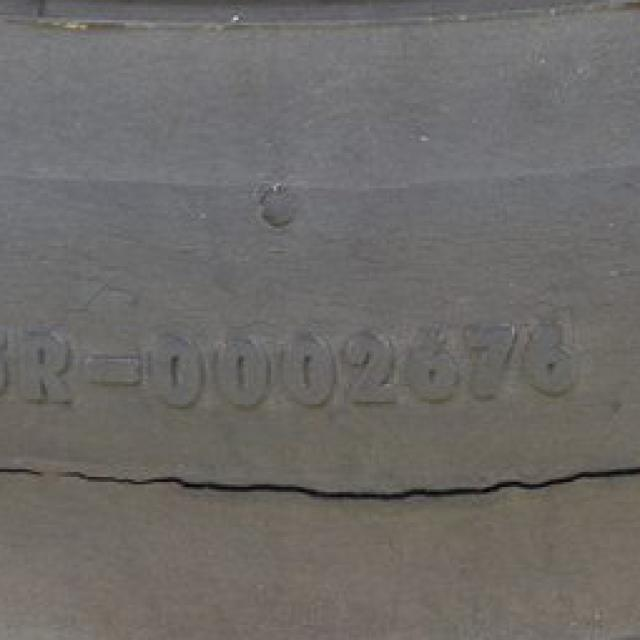Cracks: (0, 423, 640, 528)
Non-defective: (0, 51, 640, 344)
